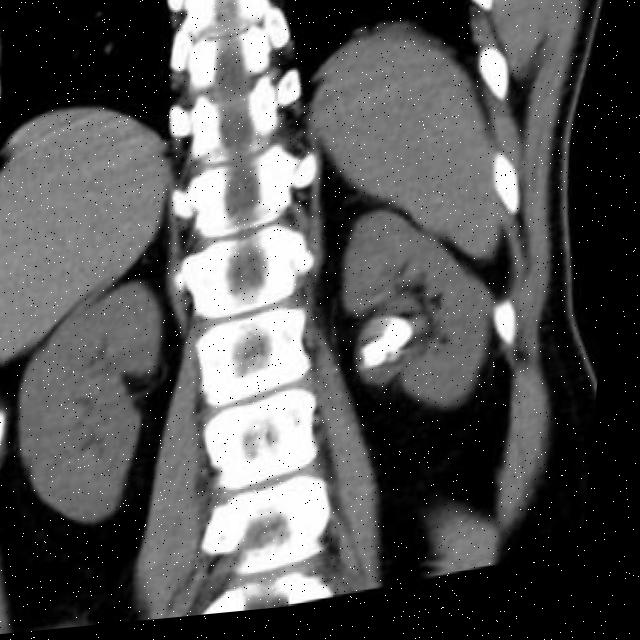Tas_Var: (364, 320, 426, 380)
